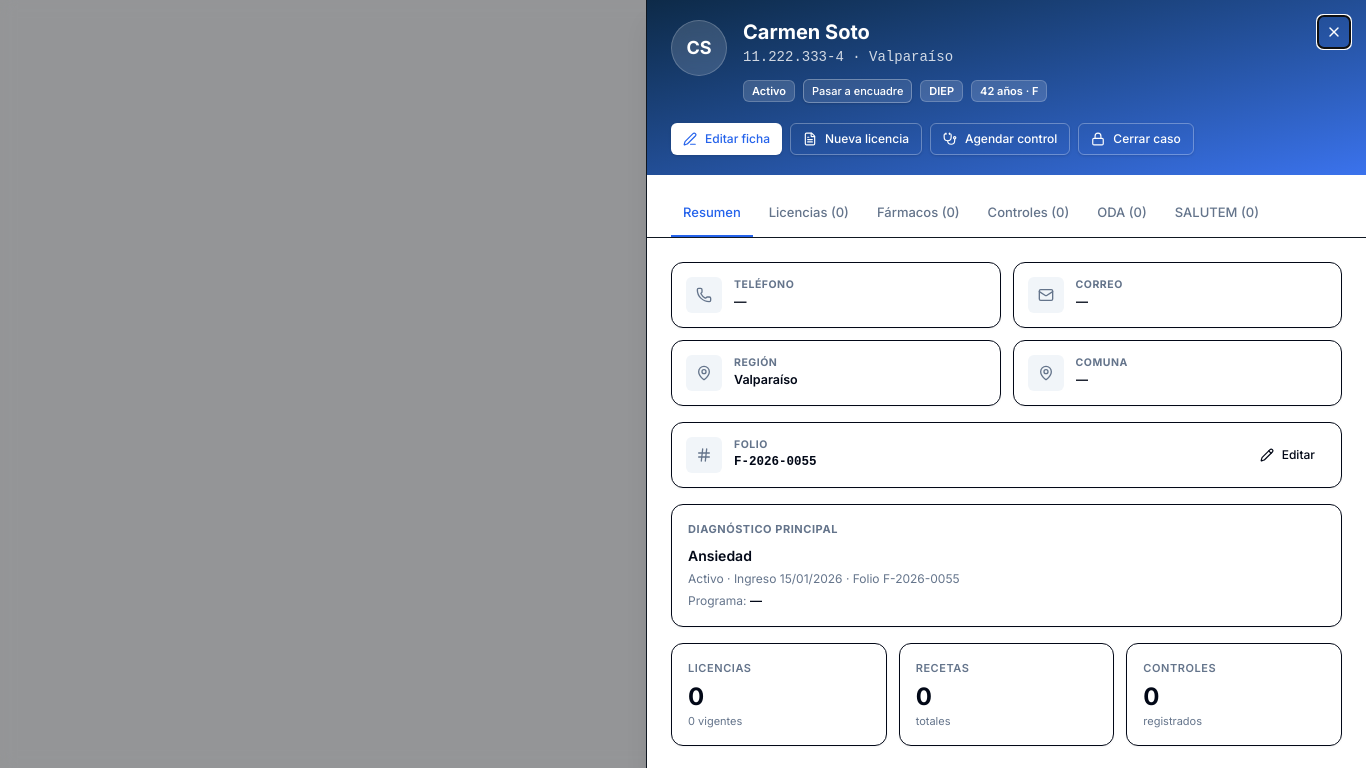
PatientSheet — cierre del caso (QA-011) › el botón Cerrar caso abre un diálogo y exige elegir un motivo
Later steps or results of the test are not shown.
Click the button with test id "btn-cerrar-caso". click: (1136, 139)
box: top-left (1078, 123), bottom-right (1194, 155)
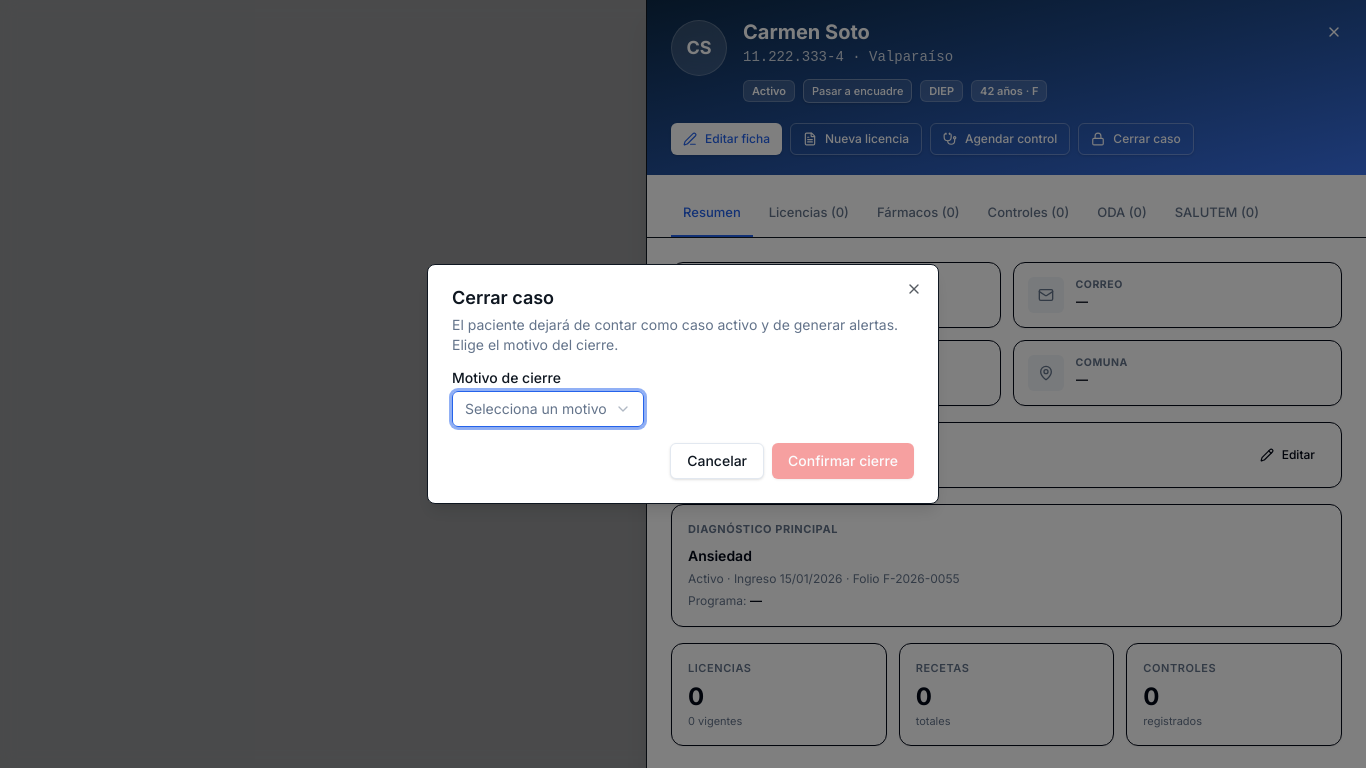
Check: the button "Confirmar cierre" is disabled, box top-left (772, 443), bottom-right (914, 479)
Click the dropdown. click: (548, 409)
box: top-left (452, 391), bottom-right (644, 427)
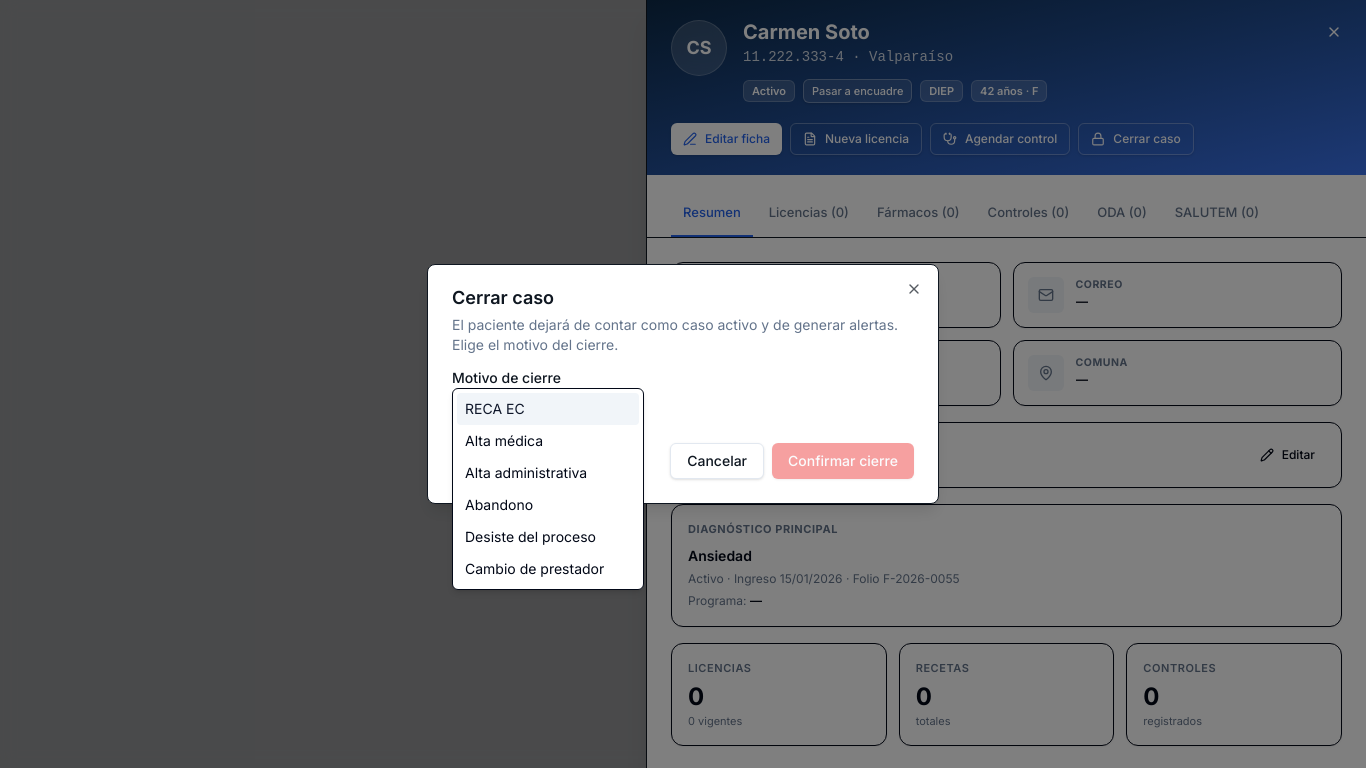
Check: the option "RECA EC" is shown, box top-left (457, 393), bottom-right (639, 425)
Check: the option "Alta médica" is shown
Check: the option "Alta administrativa" is shown, box top-left (465, 464), bottom-right (587, 481)
Click the option "Alta médica". click: (504, 440)
box: top-left (465, 432), bottom-right (543, 449)
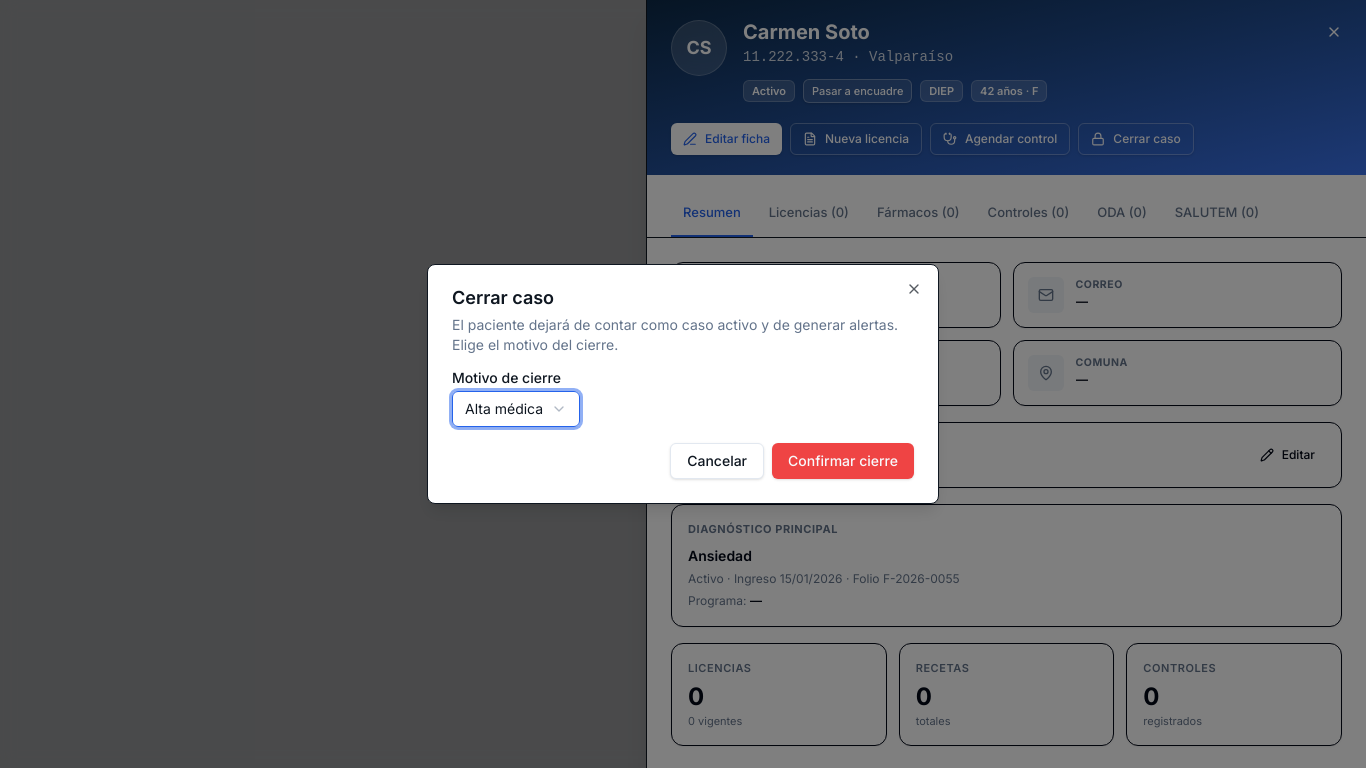
Check: the button "Confirmar cierre" is enabled, box top-left (772, 443), bottom-right (914, 479)
